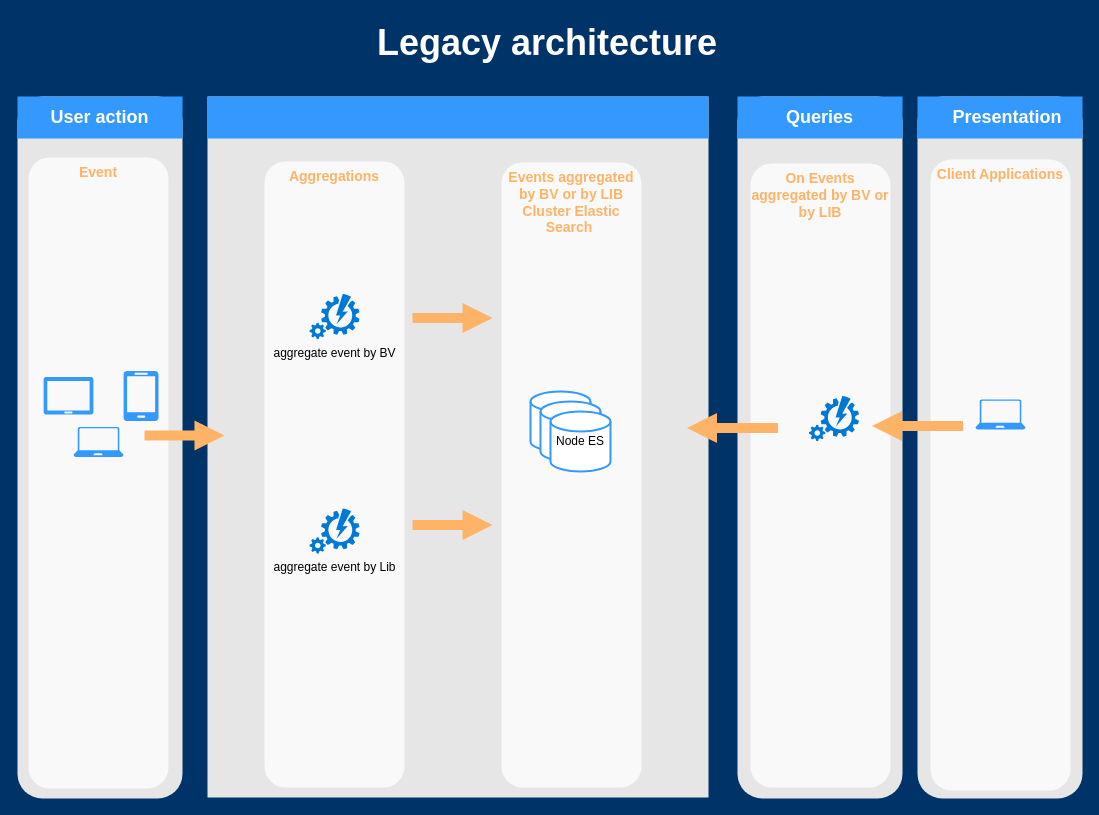
Image size: 1099x815. Some labels were removed from this diagram. The shapes that lost their labels are listed below. From the top down, each one's centre as x and y in pixels, then its label:
[457,117]: Event aggregation
[833,418]: query
[1000,414]: Web Dashboards
[98,441]: Library Front
